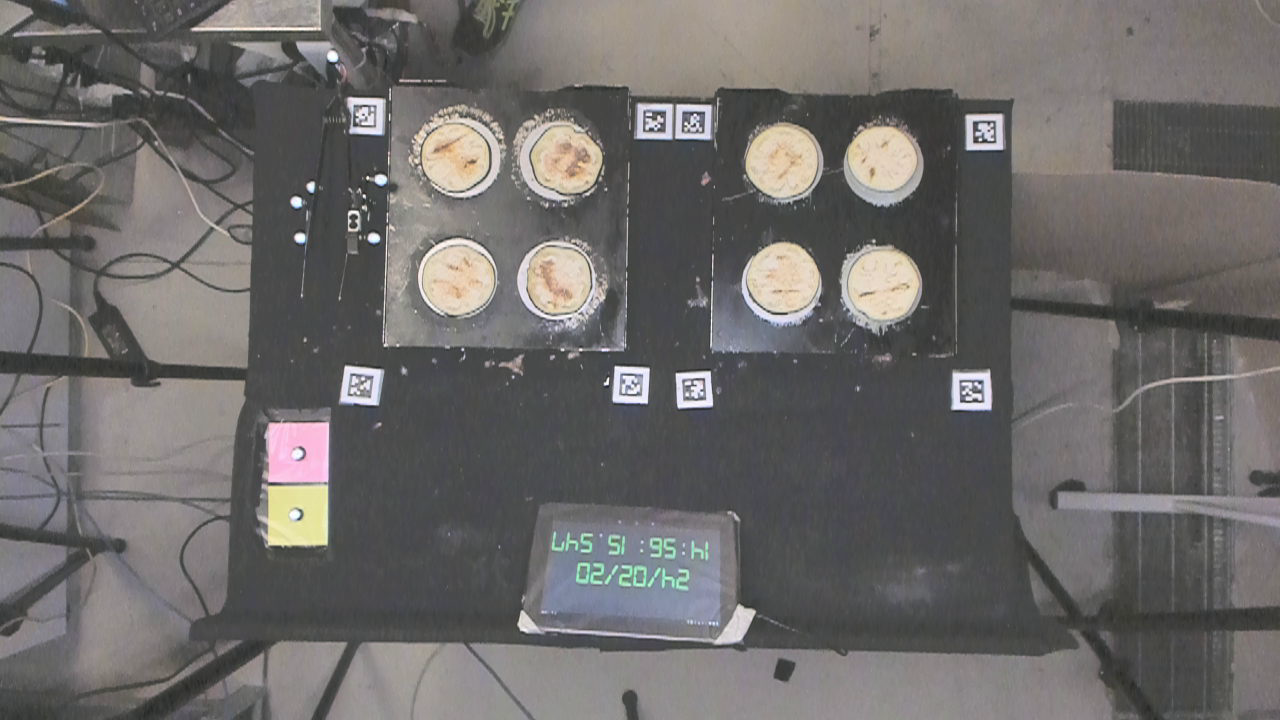eggplant: (743, 239, 824, 319), (742, 121, 820, 202), (528, 122, 605, 202), (846, 122, 926, 197), (413, 123, 494, 195), (847, 247, 919, 328), (519, 245, 596, 320), (418, 243, 496, 316)
marker: (263, 419, 333, 486)
